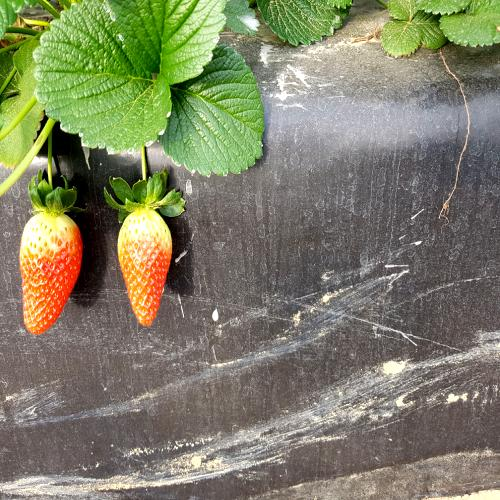partially-ripe: (17, 202, 87, 349), (113, 203, 177, 331)
